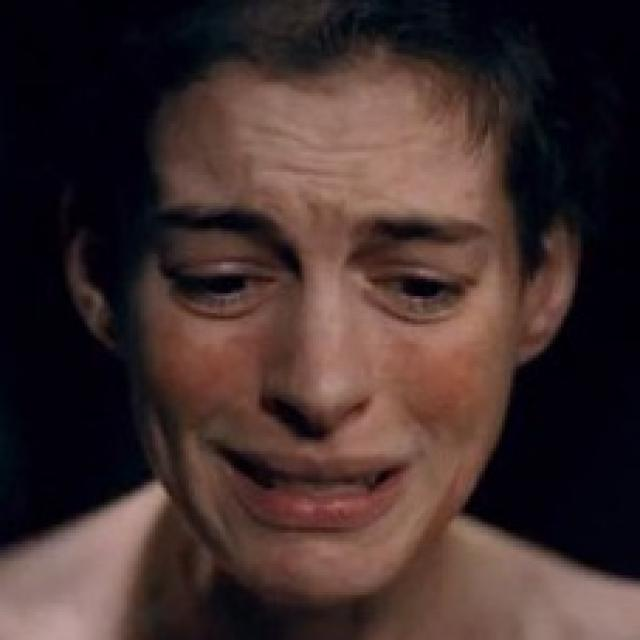Depress: (123, 61, 532, 612)
